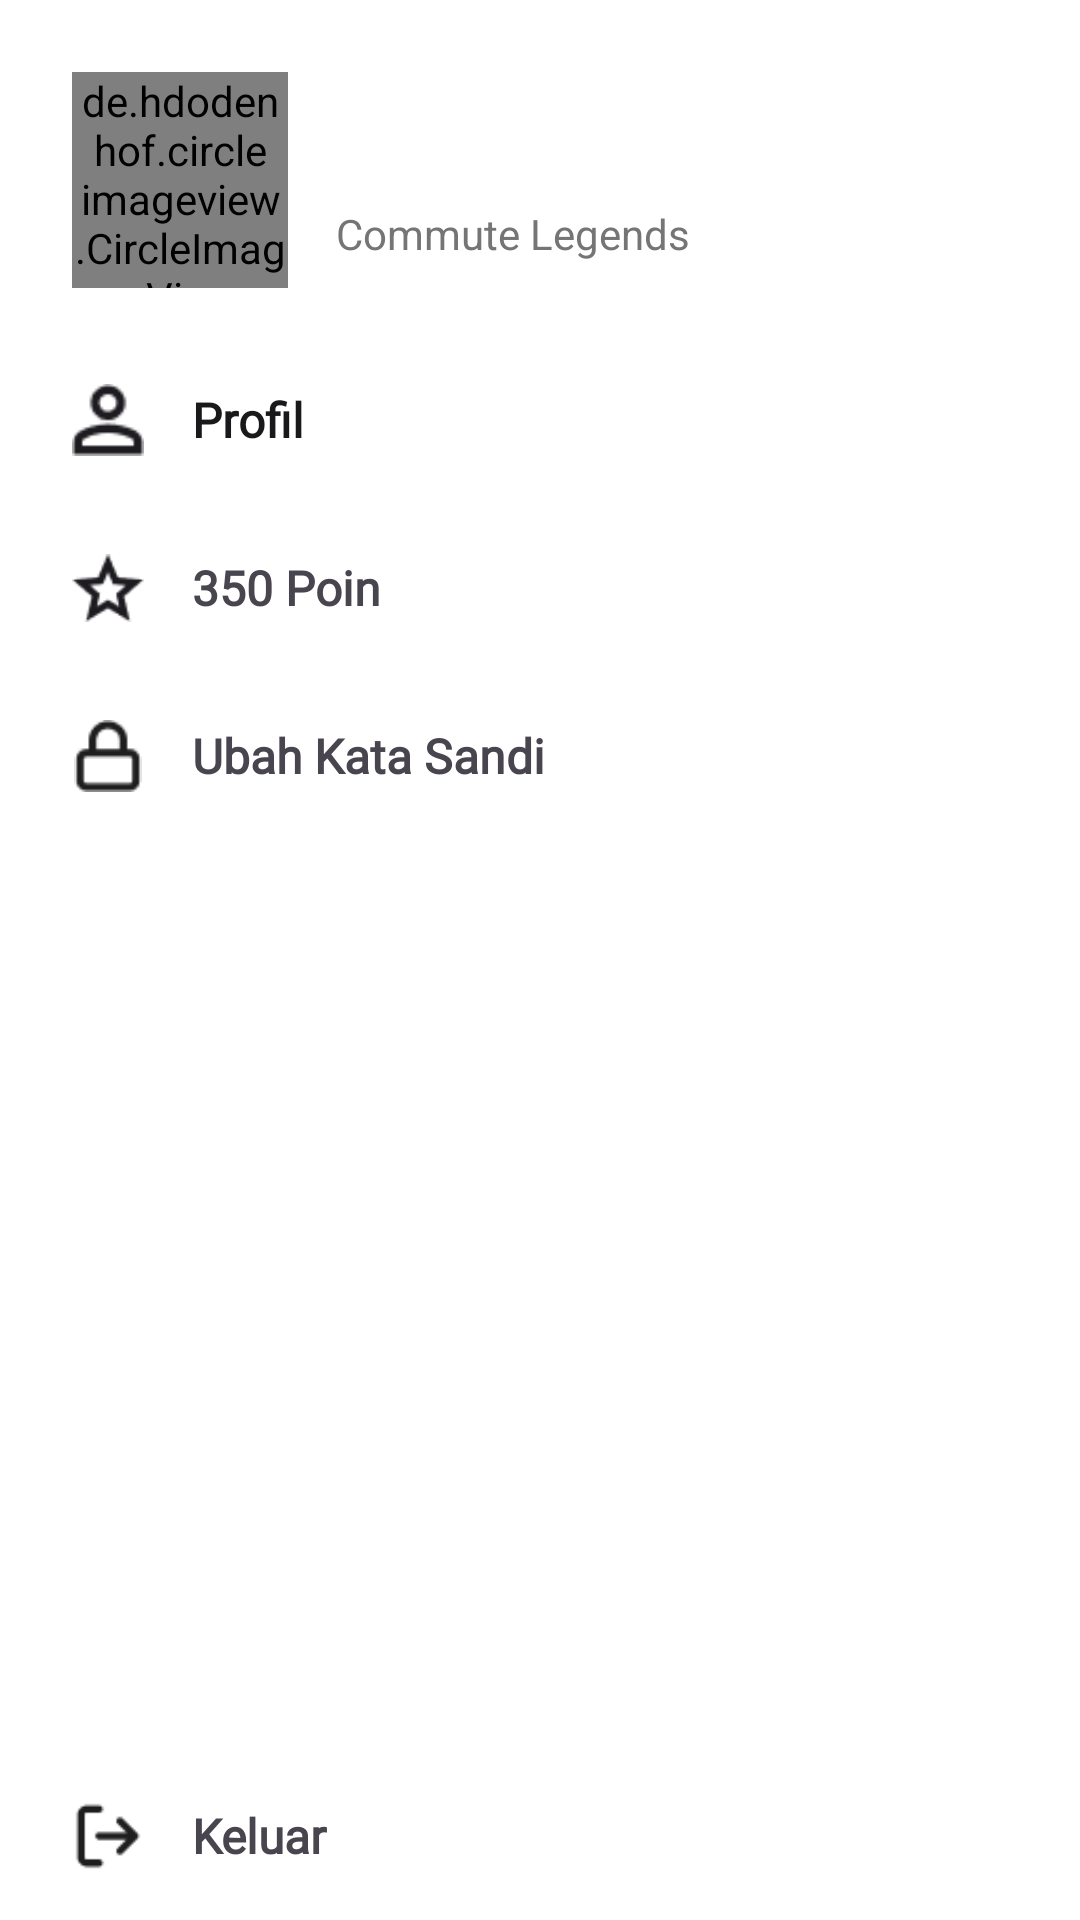

Screen size 1080*1920. Icon name, then its box in pixels as bbox=[x1, y1, x2, y2]:
lock: bbox=[74, 720, 142, 792]
star: bbox=[72, 554, 144, 622]
